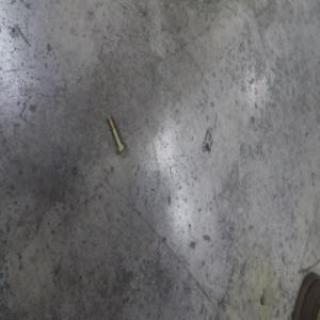Bolttrack_idkeyframe: (107, 110, 126, 154)
